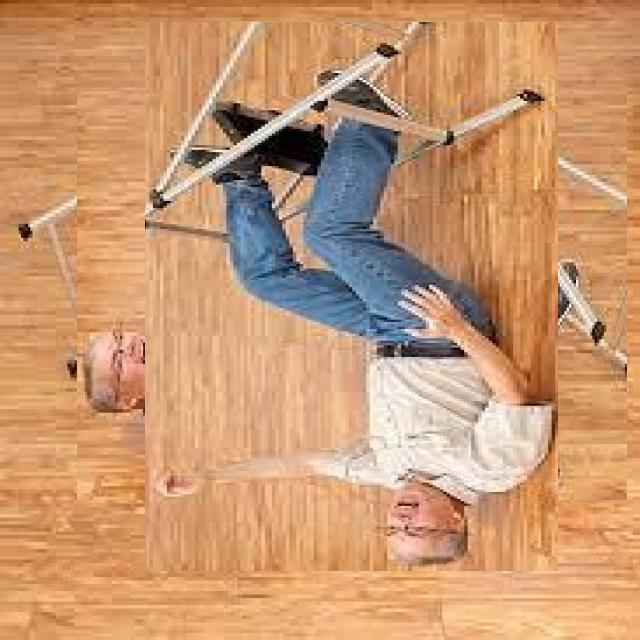Fall: (158, 50, 600, 628)
